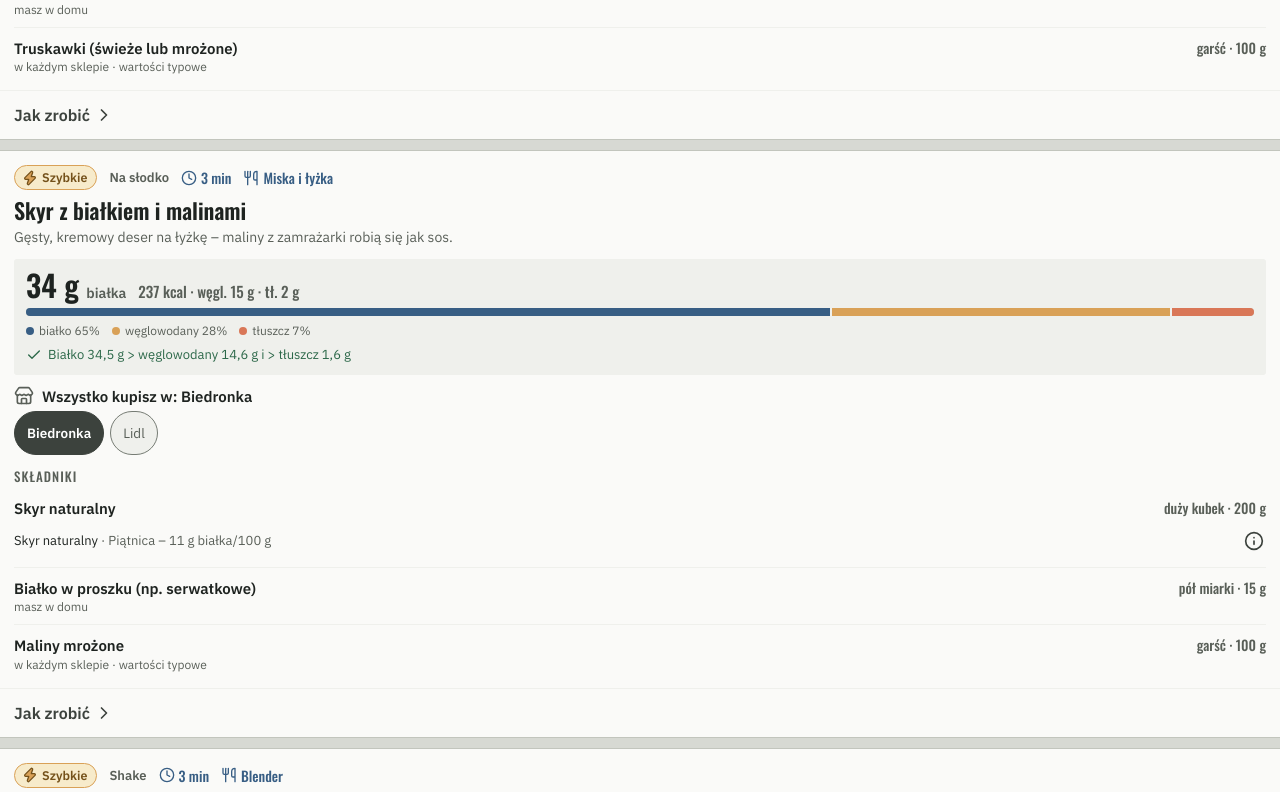
Test: Przepisy › przełącznik sklepu na karcie zmienia sklep tylko tej karty
(page scrolled)
Expected: the text "Wszystko kupisz w: Biedronka" is shown, x1=42 y1=387 x2=252 y2=407
Click the button "Lidl". click: coordinates (134, 433)
box: x1=110 y1=411 x2=158 y2=455
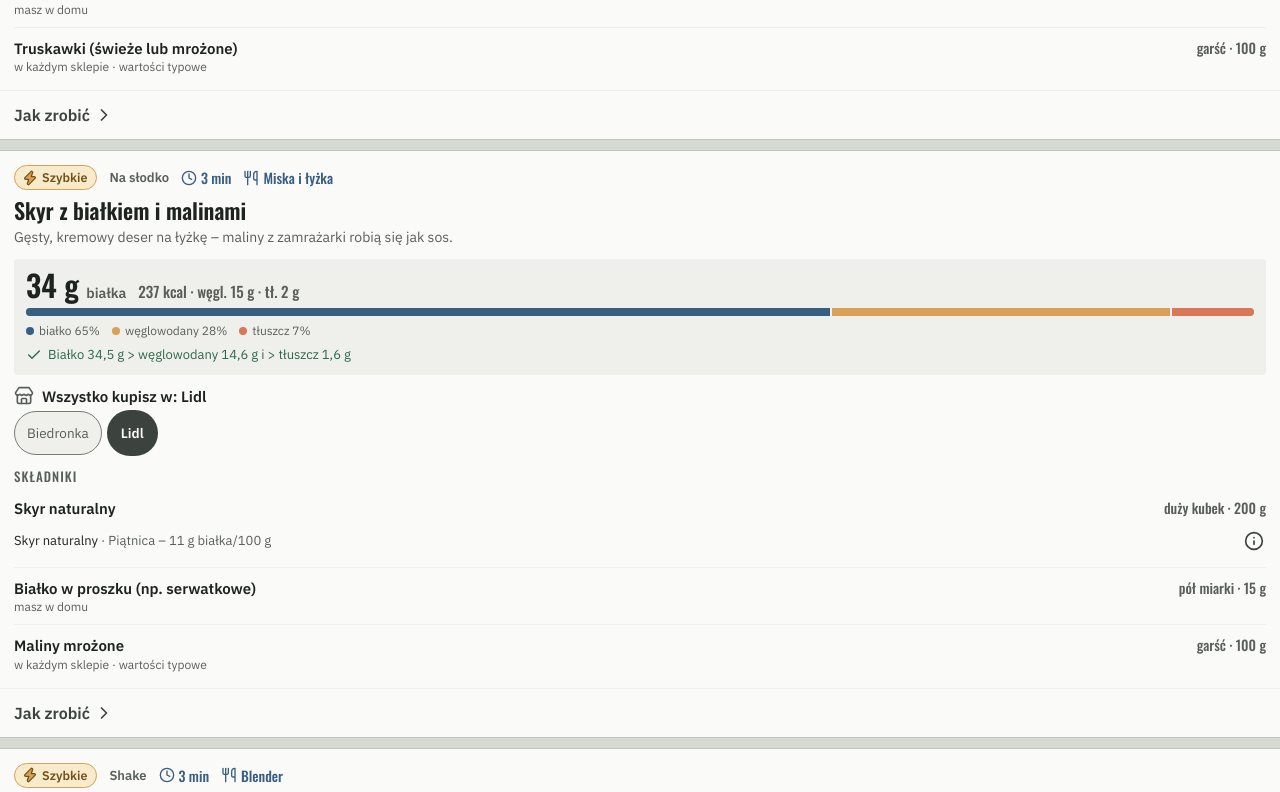
Now the text "Wszystko kupisz w: Lidl" is shown, box x1=42 y1=387 x2=206 y2=407
